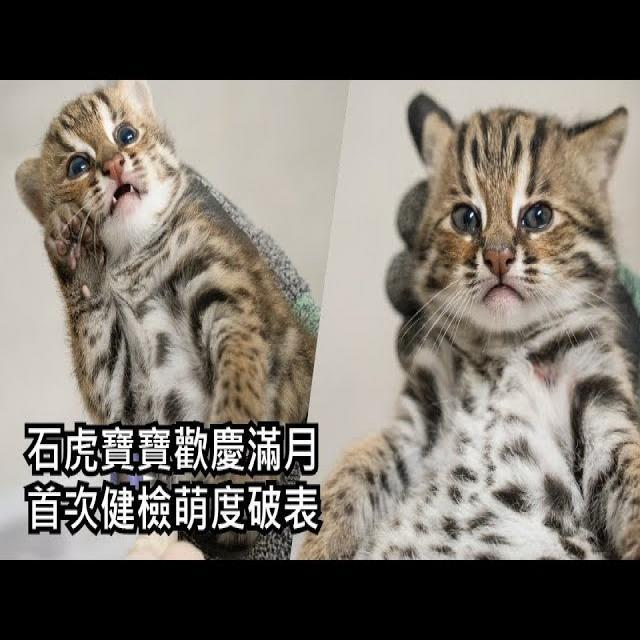leopard: (406, 100, 636, 451), (25, 90, 273, 364)
